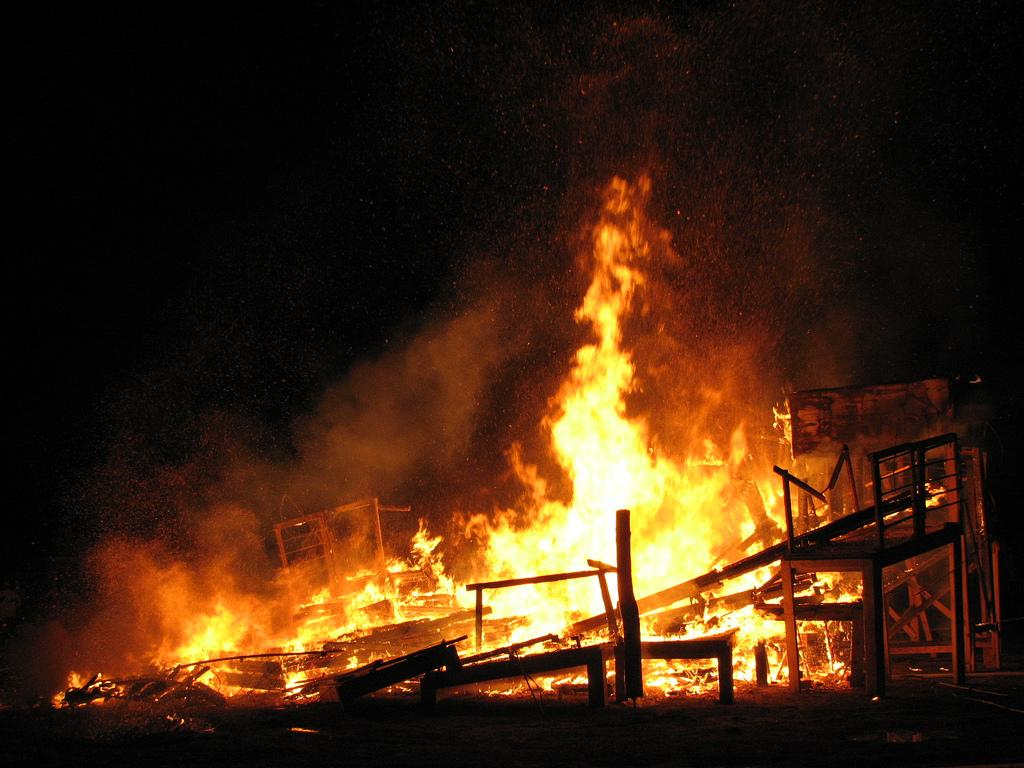fire: (550, 366, 662, 642), (678, 442, 810, 674), (306, 558, 546, 640), (166, 598, 264, 682)
